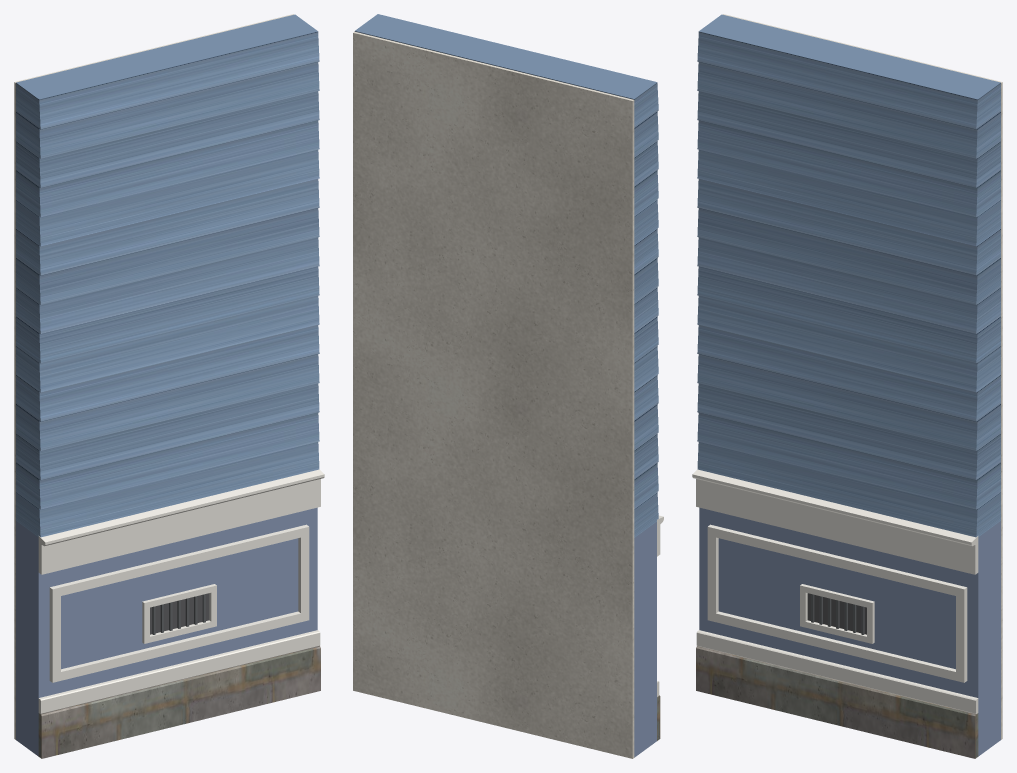
File: f_g_plain_d.glb
3 renders of one model, left to right at view 1: azimuth 30°, elevation 25°; view 2: azimuth 150°, elevation 25°; view 3: azimuth 330°, elevation 25°, orthographic.
Visible parts, largest first — view 1: f_g_plain_d_siding_d, f_g_plain_d_acc_d, f_g_plain_d_trim, f_g_plain_d_plinth, f_g_plain_d_plaster, f_g_plain_d_dark, f_g_plain_d_iron; view 2: f_g_plain_d_plaster, f_g_plain_d_siding_d, f_g_plain_d_acc_d; view 3: f_g_plain_d_siding_d, f_g_plain_d_acc_d, f_g_plain_d_trim, f_g_plain_d_plinth, f_g_plain_d_plaster, f_g_plain_d_dark, f_g_plain_d_iron.
Boxes of the visible parts, x1,y1,x2,y2 form: f_g_plain_d_siding_d: (16, 14, 319, 537); f_g_plain_d_acc_d: (16, 507, 317, 756); f_g_plain_d_trim: (38, 469, 324, 713); f_g_plain_d_plinth: (38, 646, 320, 758); f_g_plain_d_plaster: (14, 14, 293, 739); f_g_plain_d_dark: (150, 593, 209, 634); f_g_plain_d_iron: (152, 594, 205, 634); f_g_plain_d_plaster: (353, 31, 634, 758); f_g_plain_d_siding_d: (354, 14, 658, 537); f_g_plain_d_acc_d: (634, 522, 656, 757); f_g_plain_d_siding_d: (697, 14, 1000, 537); f_g_plain_d_acc_d: (699, 507, 1000, 756); f_g_plain_d_trim: (692, 469, 978, 713); f_g_plain_d_plinth: (696, 646, 978, 758); f_g_plain_d_plaster: (723, 14, 1002, 739); f_g_plain_d_dark: (807, 593, 866, 634); f_g_plain_d_iron: (811, 594, 864, 634).
Bounding box in the file's own units: 2 × 4.5 × 0.385.
7 materials, 3 textured.
